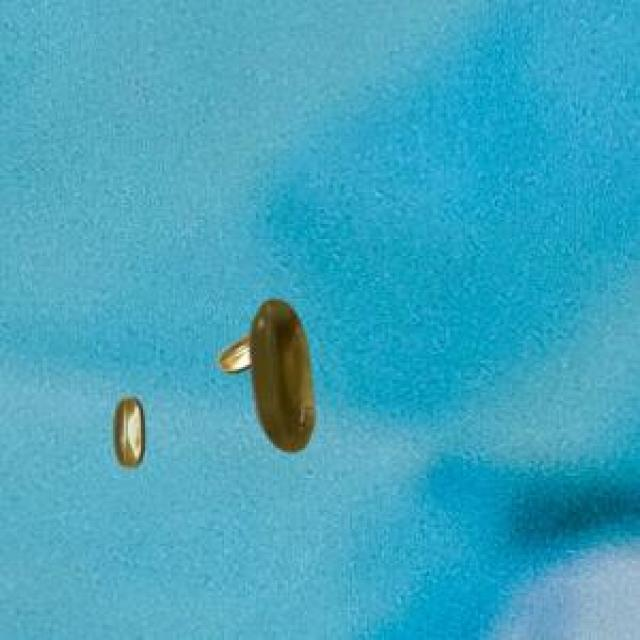Fish_Oil: (214, 288, 332, 460), (99, 386, 157, 469)
